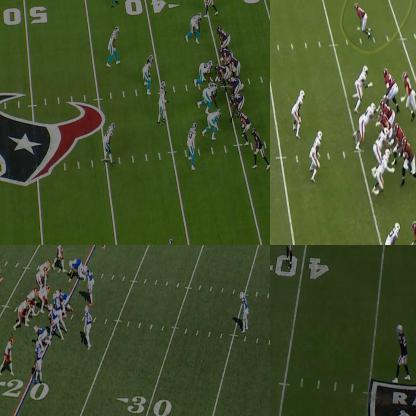CENTER: (215, 61, 228, 85), (382, 116, 395, 139), (39, 288, 50, 308)
DB: (395, 326, 408, 383), (105, 121, 116, 161), (108, 24, 118, 66), (383, 223, 400, 244), (84, 303, 92, 347), (36, 340, 43, 385), (280, 245, 294, 267), (239, 292, 247, 330), (110, 0, 118, 8)
LB: (292, 91, 304, 137), (310, 132, 321, 181), (186, 11, 203, 41), (187, 119, 197, 168), (157, 82, 167, 126), (143, 53, 152, 92), (83, 267, 94, 295), (52, 305, 60, 339)
QB: (229, 52, 242, 78), (0, 266, 2, 306)
SKILL: (250, 125, 267, 171), (402, 73, 415, 113), (0, 338, 13, 373), (239, 108, 250, 143), (356, 3, 368, 32), (203, 0, 218, 15), (56, 245, 69, 262)
